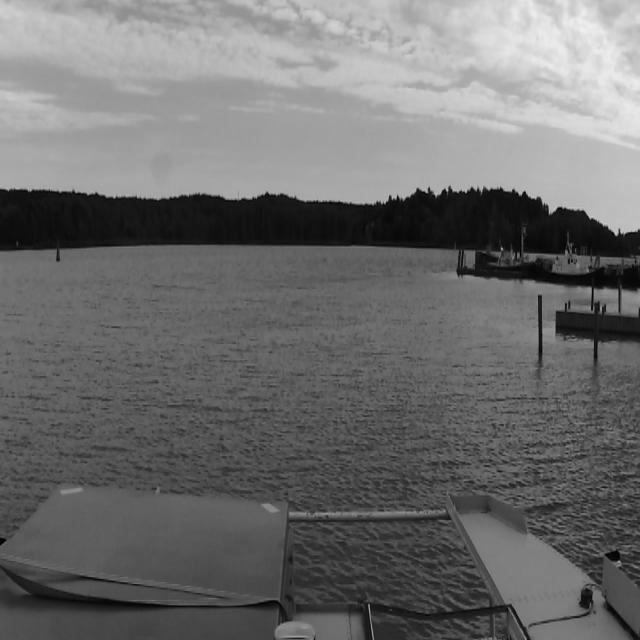buoy: (56, 238, 60, 260)
ship: (534, 239, 604, 290), (475, 243, 535, 270)
